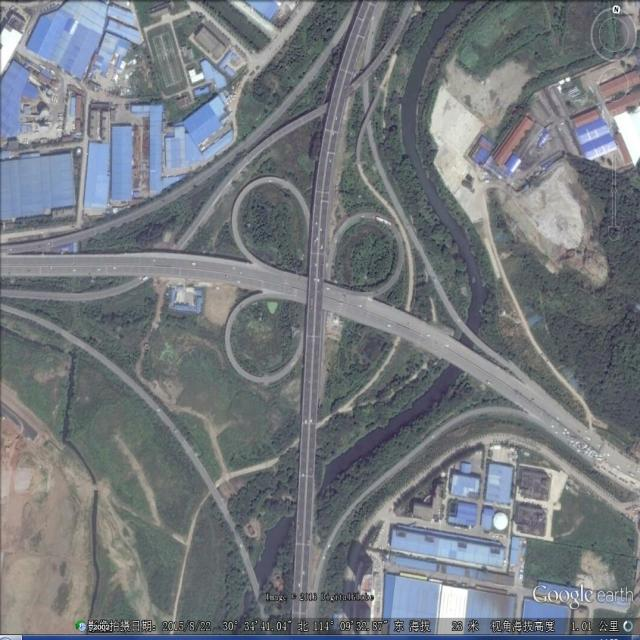overpass: (220, 172, 409, 387)
